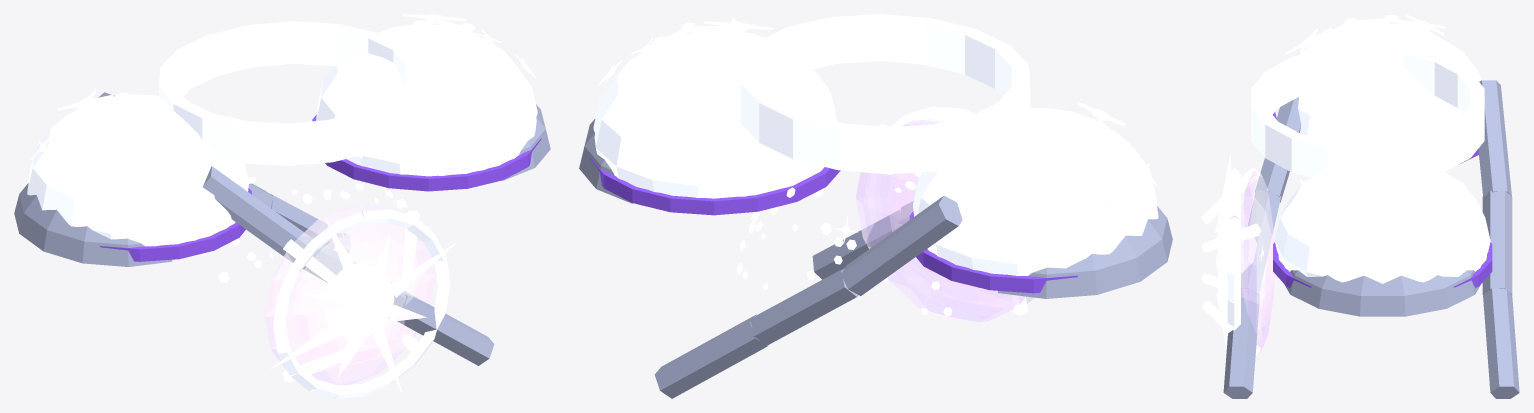
The model's file is astrael_chest.glb.
3 renders of one model, left to right at view 1: azimuth 30°, elevation 25°; view 2: azimuth 150°, elevation 25°; view 3: azimuth 270°, elevation 25°, orthographic. The views are drawn at different scales.
Visible parts, largest first — view 1: astrael_chest; view 2: astrael_chest; view 3: astrael_chest.
Part boxes in pixels (bbox=[...]): astrael_chest: bbox=[14, 14, 550, 398]; astrael_chest: bbox=[579, 14, 1172, 398]; astrael_chest: bbox=[1201, 14, 1519, 398].
Size of the model in its own units: 1.46 by 0.7828 by 0.859.
